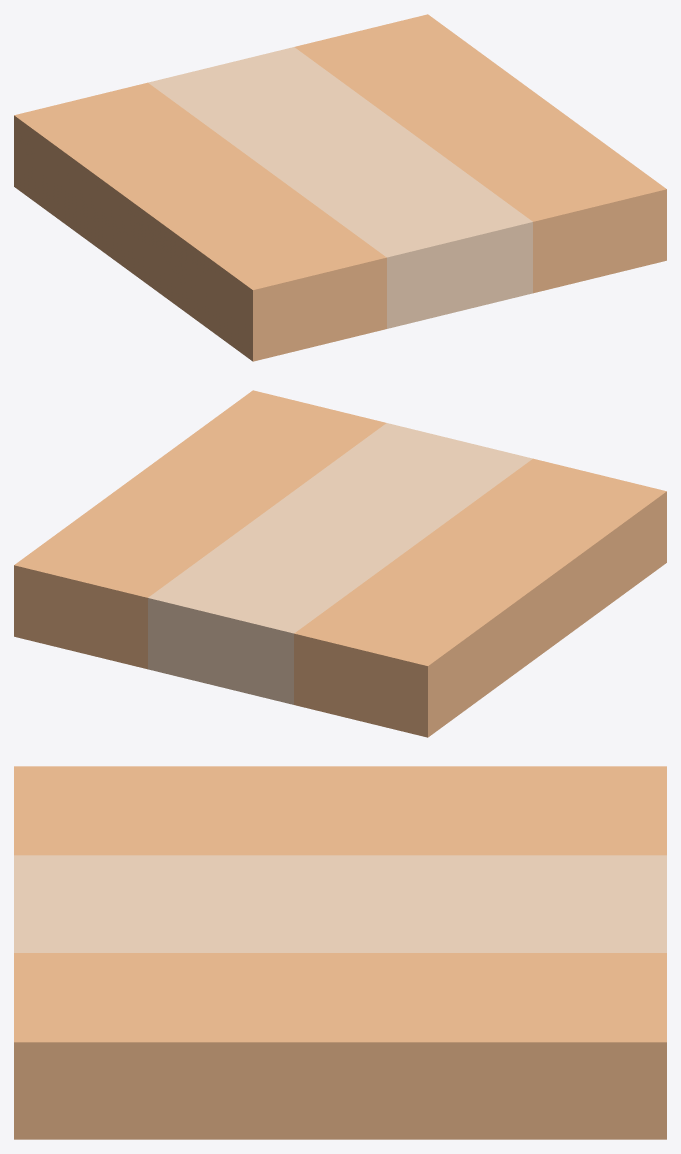
3 views of the same model, one above another, from view 1: azimuth 30°, elevation 25°; view 2: azimuth 150°, elevation 25°; view 3: azimuth 270°, elevation 25° (orthographic). The views are drawn at different scales.
Visible parts, largest first — view 1: Link B; view 2: Link B; view 3: Link B.
Part boxes in pixels (x1,y1,x2,y2): Link B: (14, 14, 666, 361); Link B: (14, 390, 666, 737); Link B: (14, 766, 666, 1139).
Bounding box in the file's own units: 300 × 49.49 × 300.
